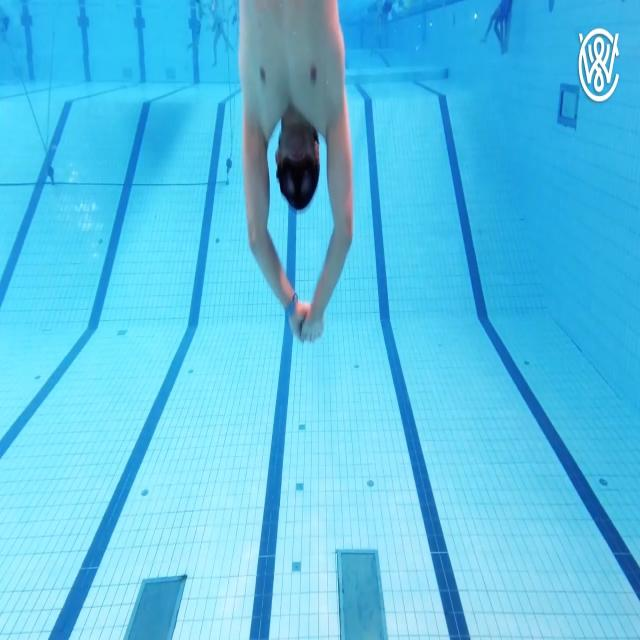Swimming: (238, 0, 356, 343)
